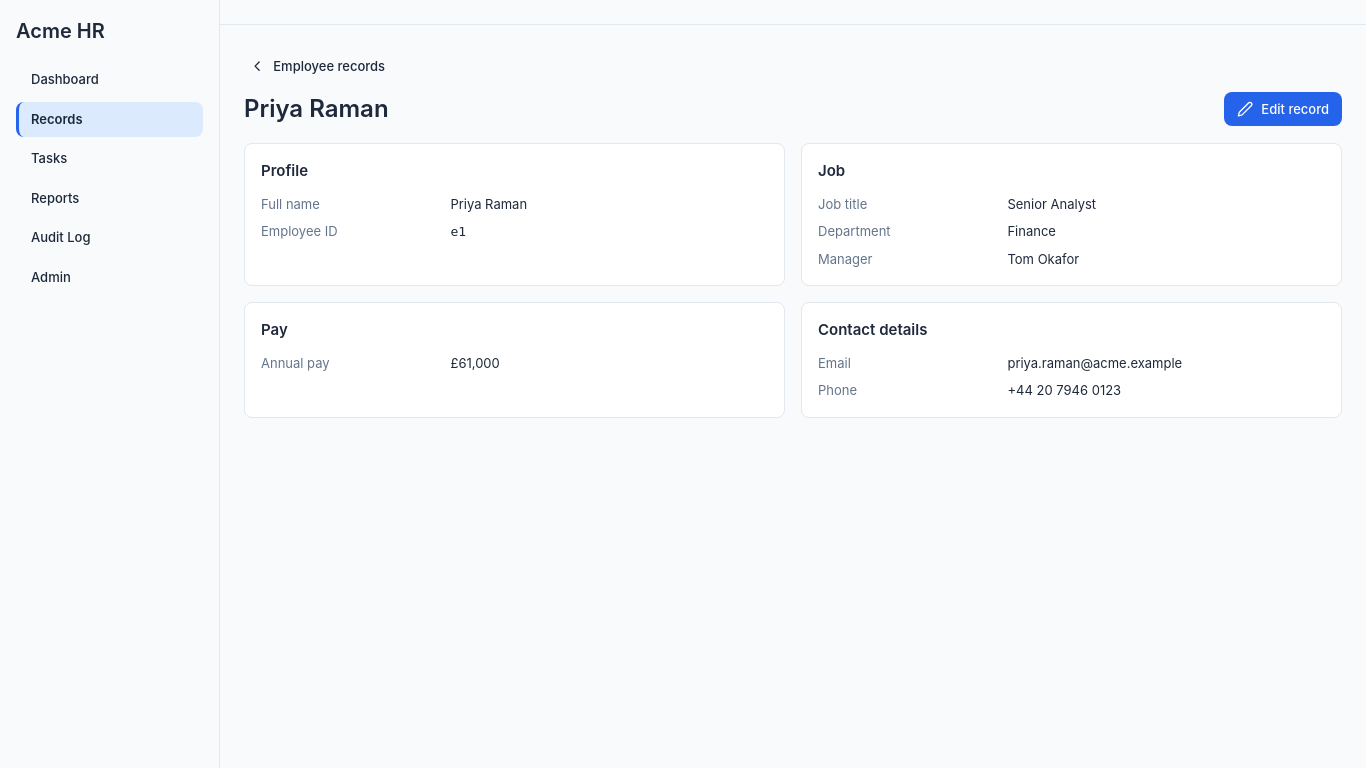
it: EmployeeRecordPage › replaces the manager and says so (AC6, AC11)
Click the button "Edit record" at (1283, 109), box [1224, 92, 1342, 126]
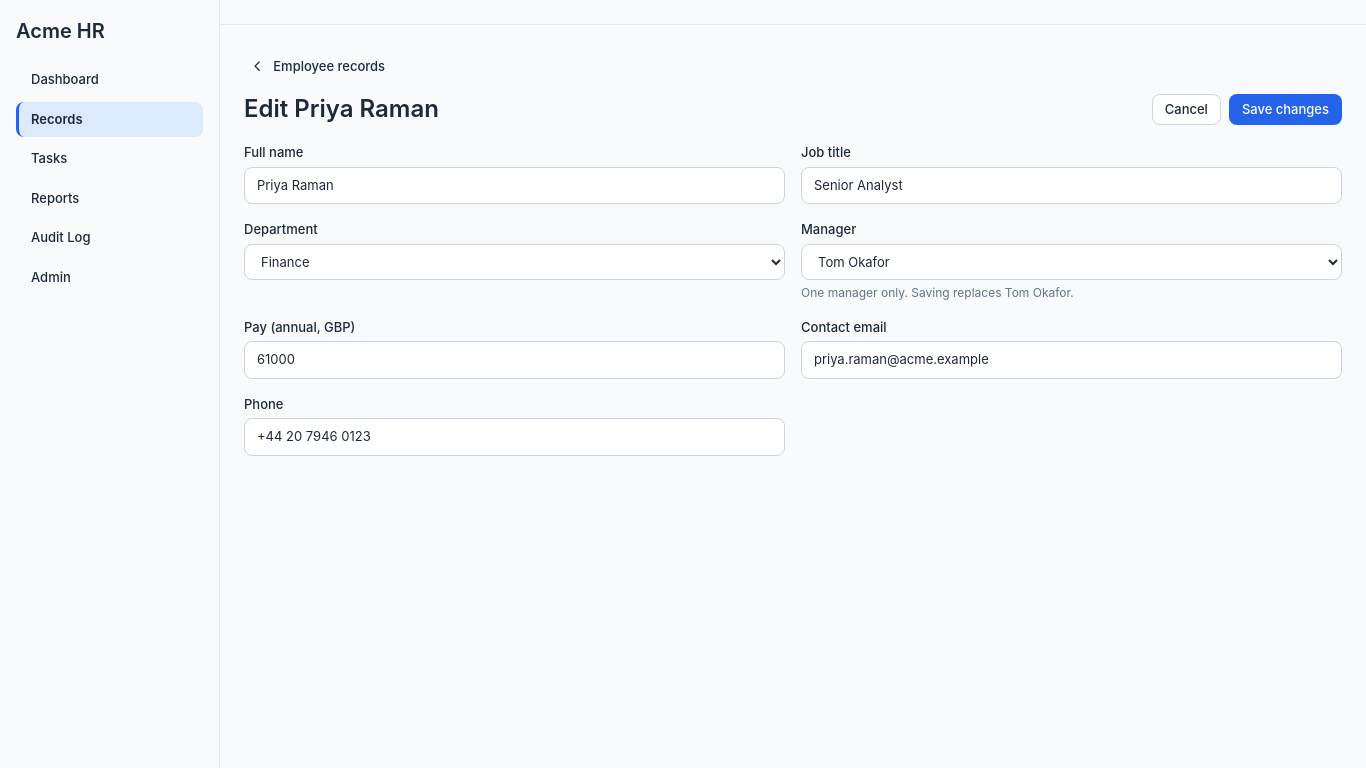
Expected: the text "One manager only. Saving replaces Tom Okafor." is shown, [801, 285, 1074, 300]
Select "Ada Lindqvist (Executive)" in the dropdown labelled "Manager" at (1072, 262), box [801, 244, 1342, 280]
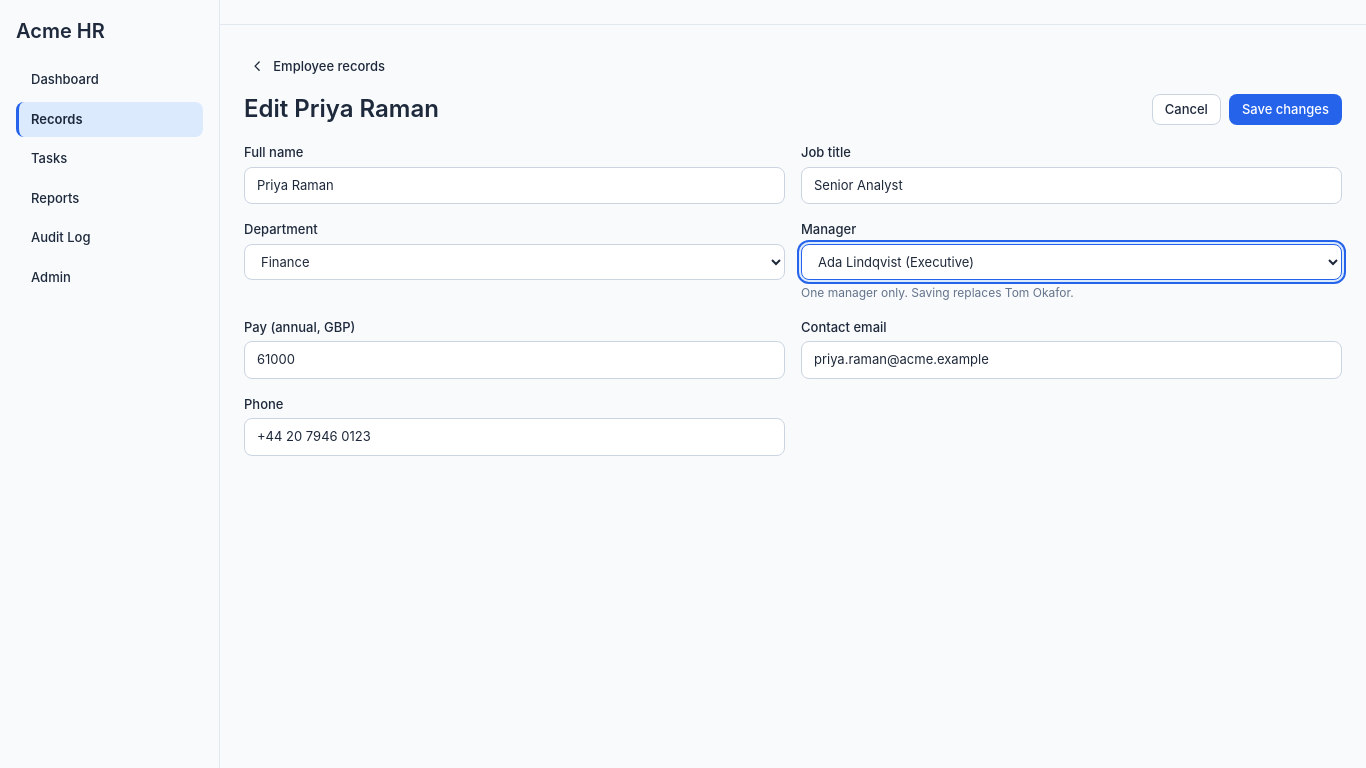
Click the button "Save changes" at (1285, 109), box [1229, 94, 1342, 125]
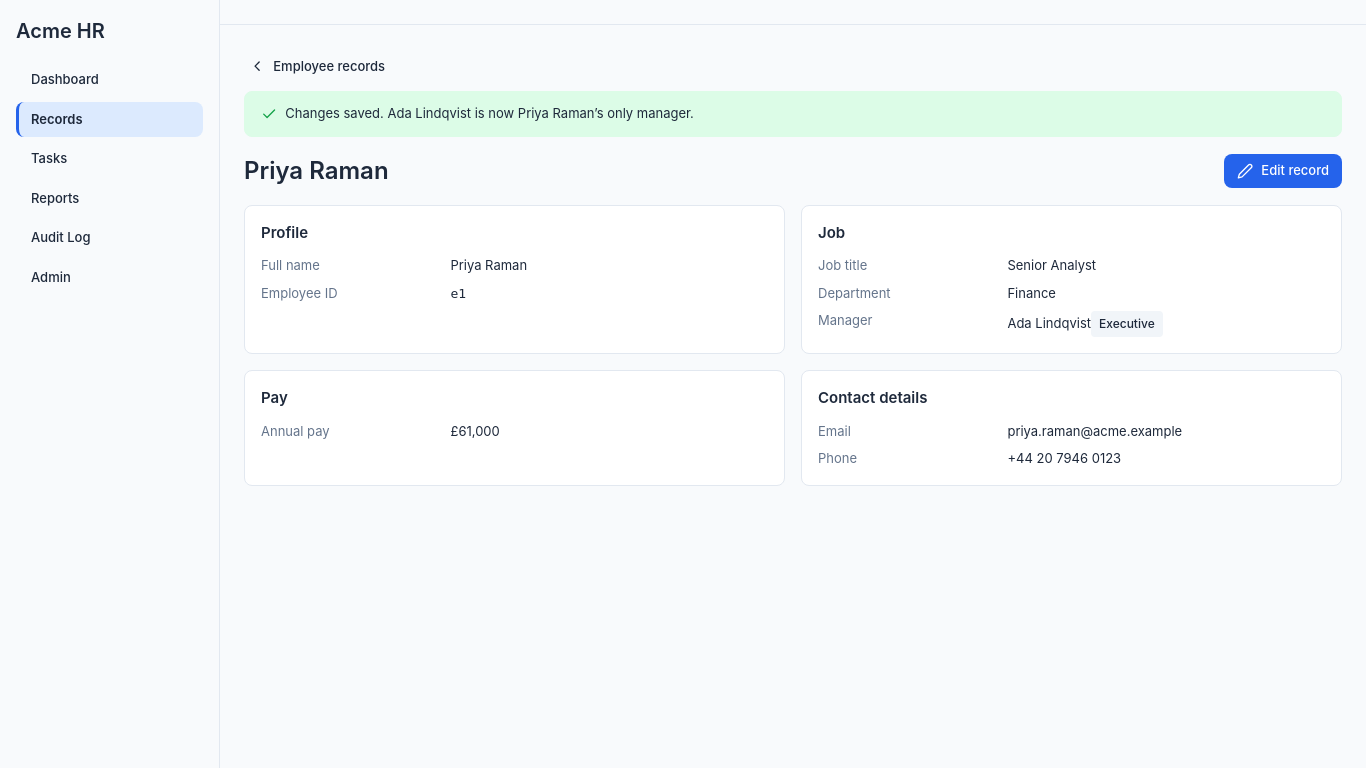
Expected: the message reads "Changes saved. Ada Lindqvist is now Priya Raman’s only manager.", [285, 105, 694, 121]
